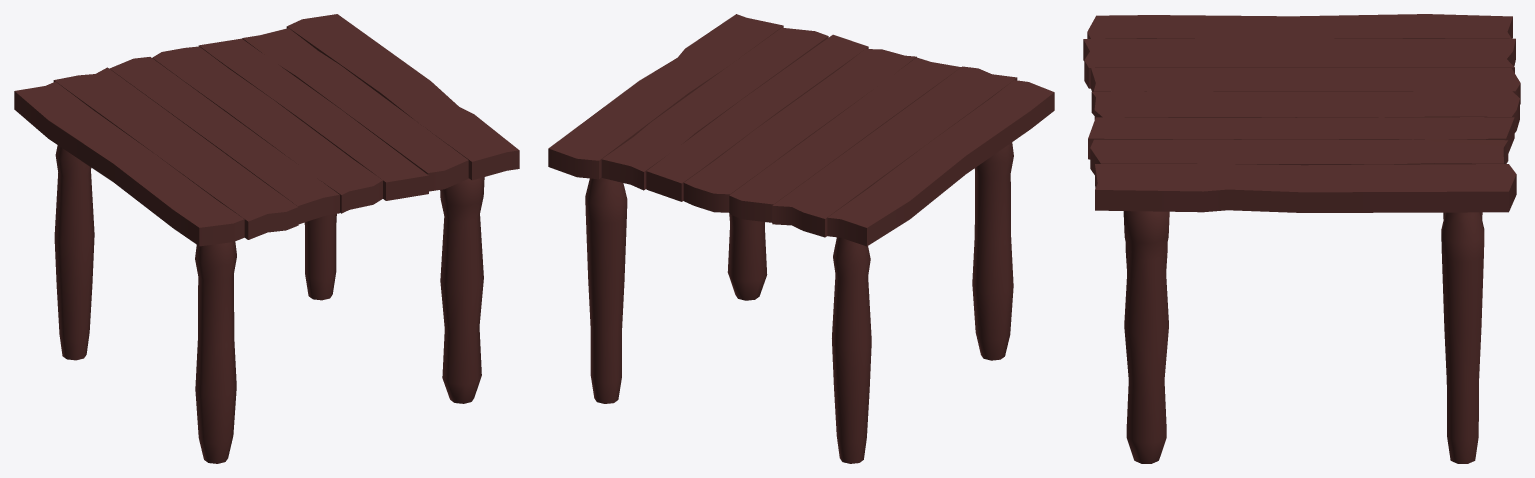
File: table_carre.fbx
3 renders of one model, left to right at view 1: azimuth 30°, elevation 25°; view 2: azimuth 150°, elevation 25°; view 3: azimuth 270°, elevation 25°, orthographic. The views are drawn at different scales.
Visible parts, largest first — view 1: table_carre1; view 2: table_carre1; view 3: table_carre1.
Boxes of the visible parts, x1,y1,x2,y2 form: table_carre1: (14,14,519,463); table_carre1: (548,14,1054,463); table_carre1: (1083,14,1520,463).
Bounding box in the file's own units: 31.96 × 24.02 × 33.13.
